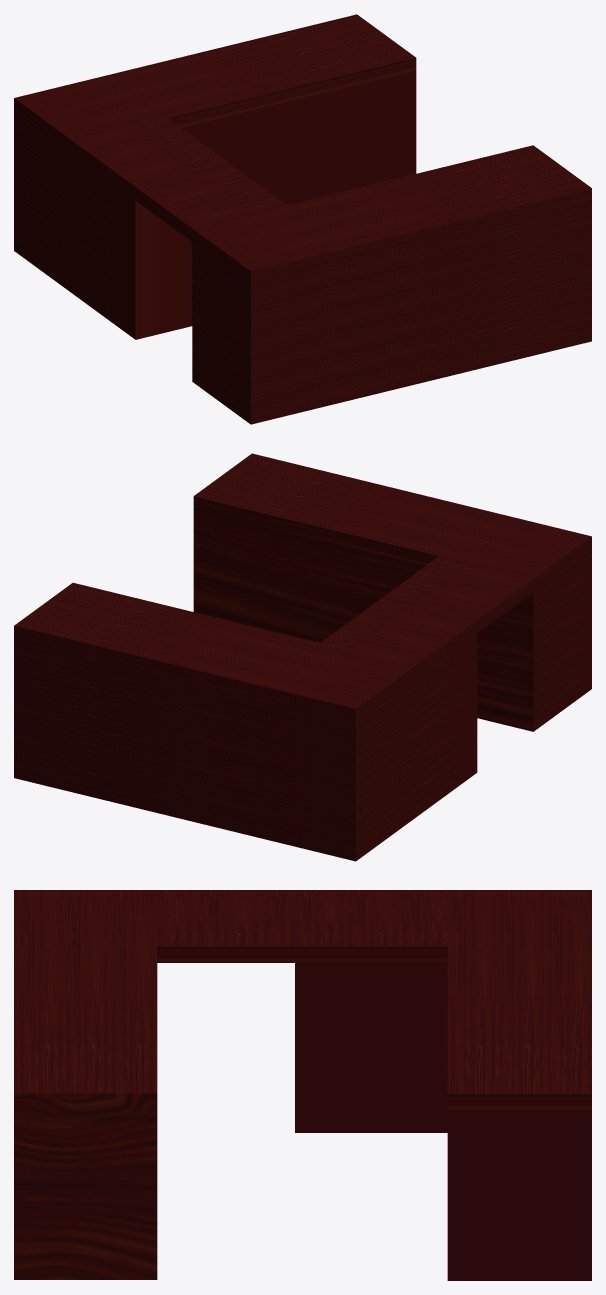
Rendered from Bar.fbx.
The picture shows the model from 3 angles, top to bottom: view 1: azimuth 30°, elevation 25°; view 2: azimuth 150°, elevation 25°; view 3: azimuth 270°, elevation 25°; orthographic projection. The views are drawn at different scales.
Parts seen in each view (by area): view 1: bar; view 2: bar; view 3: bar.
Boxes of the visible parts, left/top/right/bottom form: bar: left=14, top=14, right=591, bottom=424; bar: left=14, top=453, right=591, bottom=861; bar: left=14, top=890, right=591, bottom=1280.
Bounding box in the file's own units: 20.05 × 8.56 × 23.98.
